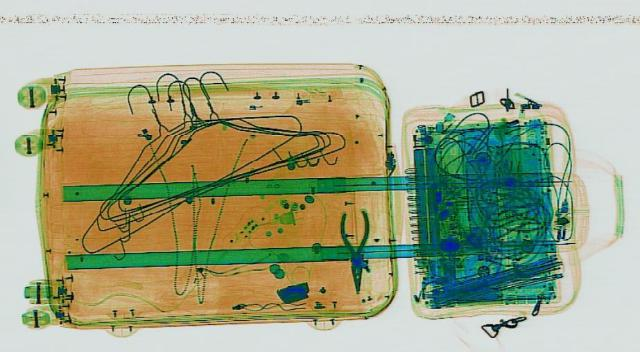Pliers: (339, 208, 373, 293)
